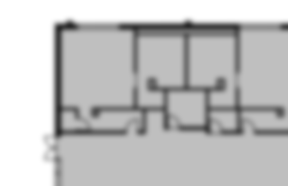door: (241, 118, 257, 134), (123, 118, 140, 133), (166, 114, 182, 129), (207, 118, 223, 133), (76, 118, 91, 131)
double door: (41, 135, 57, 160)
window: (76, 22, 121, 33), (239, 22, 282, 32)
